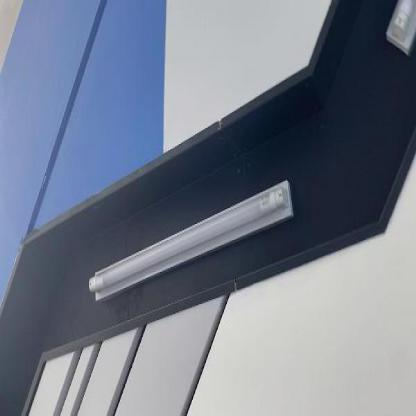light_off: (79, 154, 295, 334)
